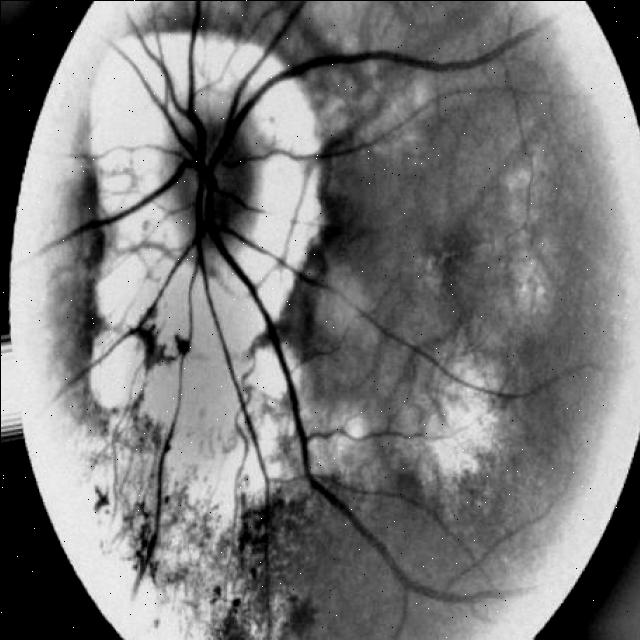Macula: (408, 206, 487, 300)
Nerves: (201, 163, 381, 473), (206, 34, 533, 152), (56, 186, 198, 389)
Optic Disk: (159, 98, 258, 271)
